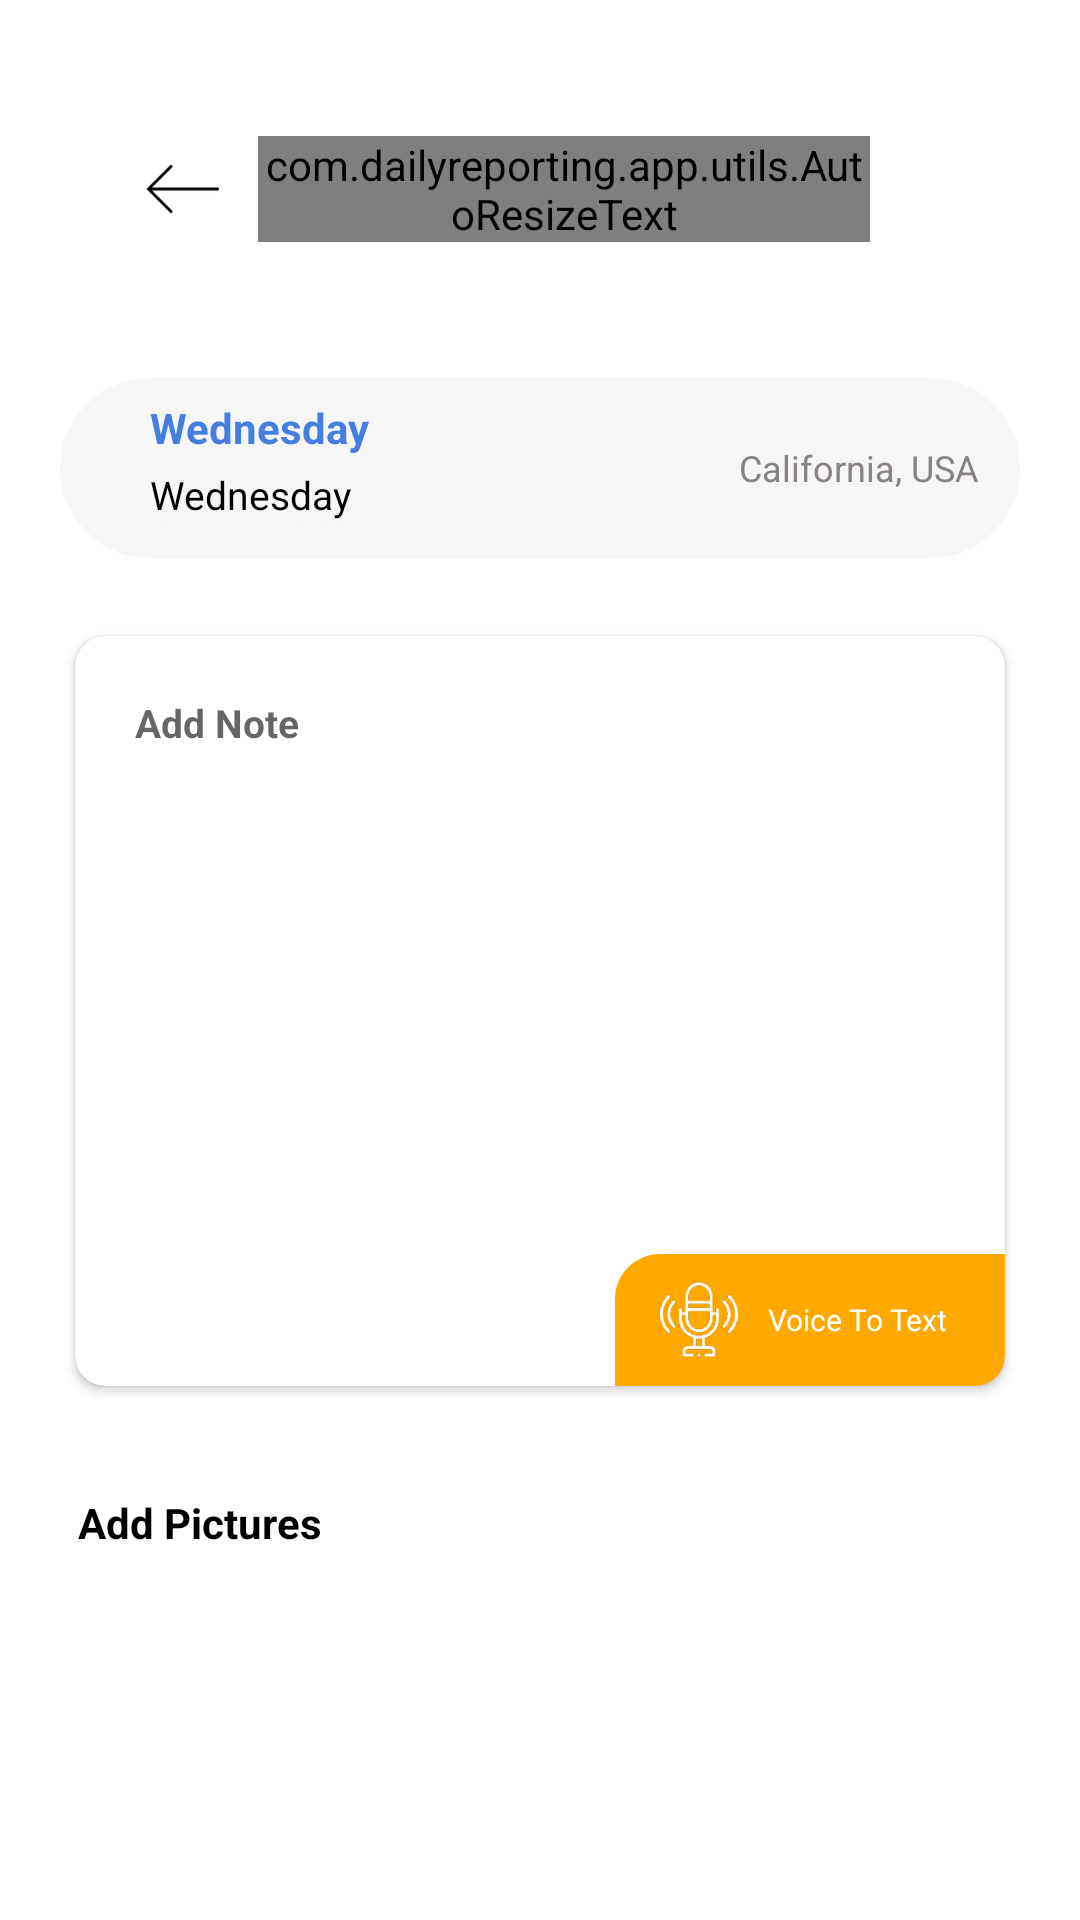

Icons on this 1080px×1920px Android screen, each with its box as (x1, y1, x2, y2):
backarrow: (147, 165, 219, 213)
